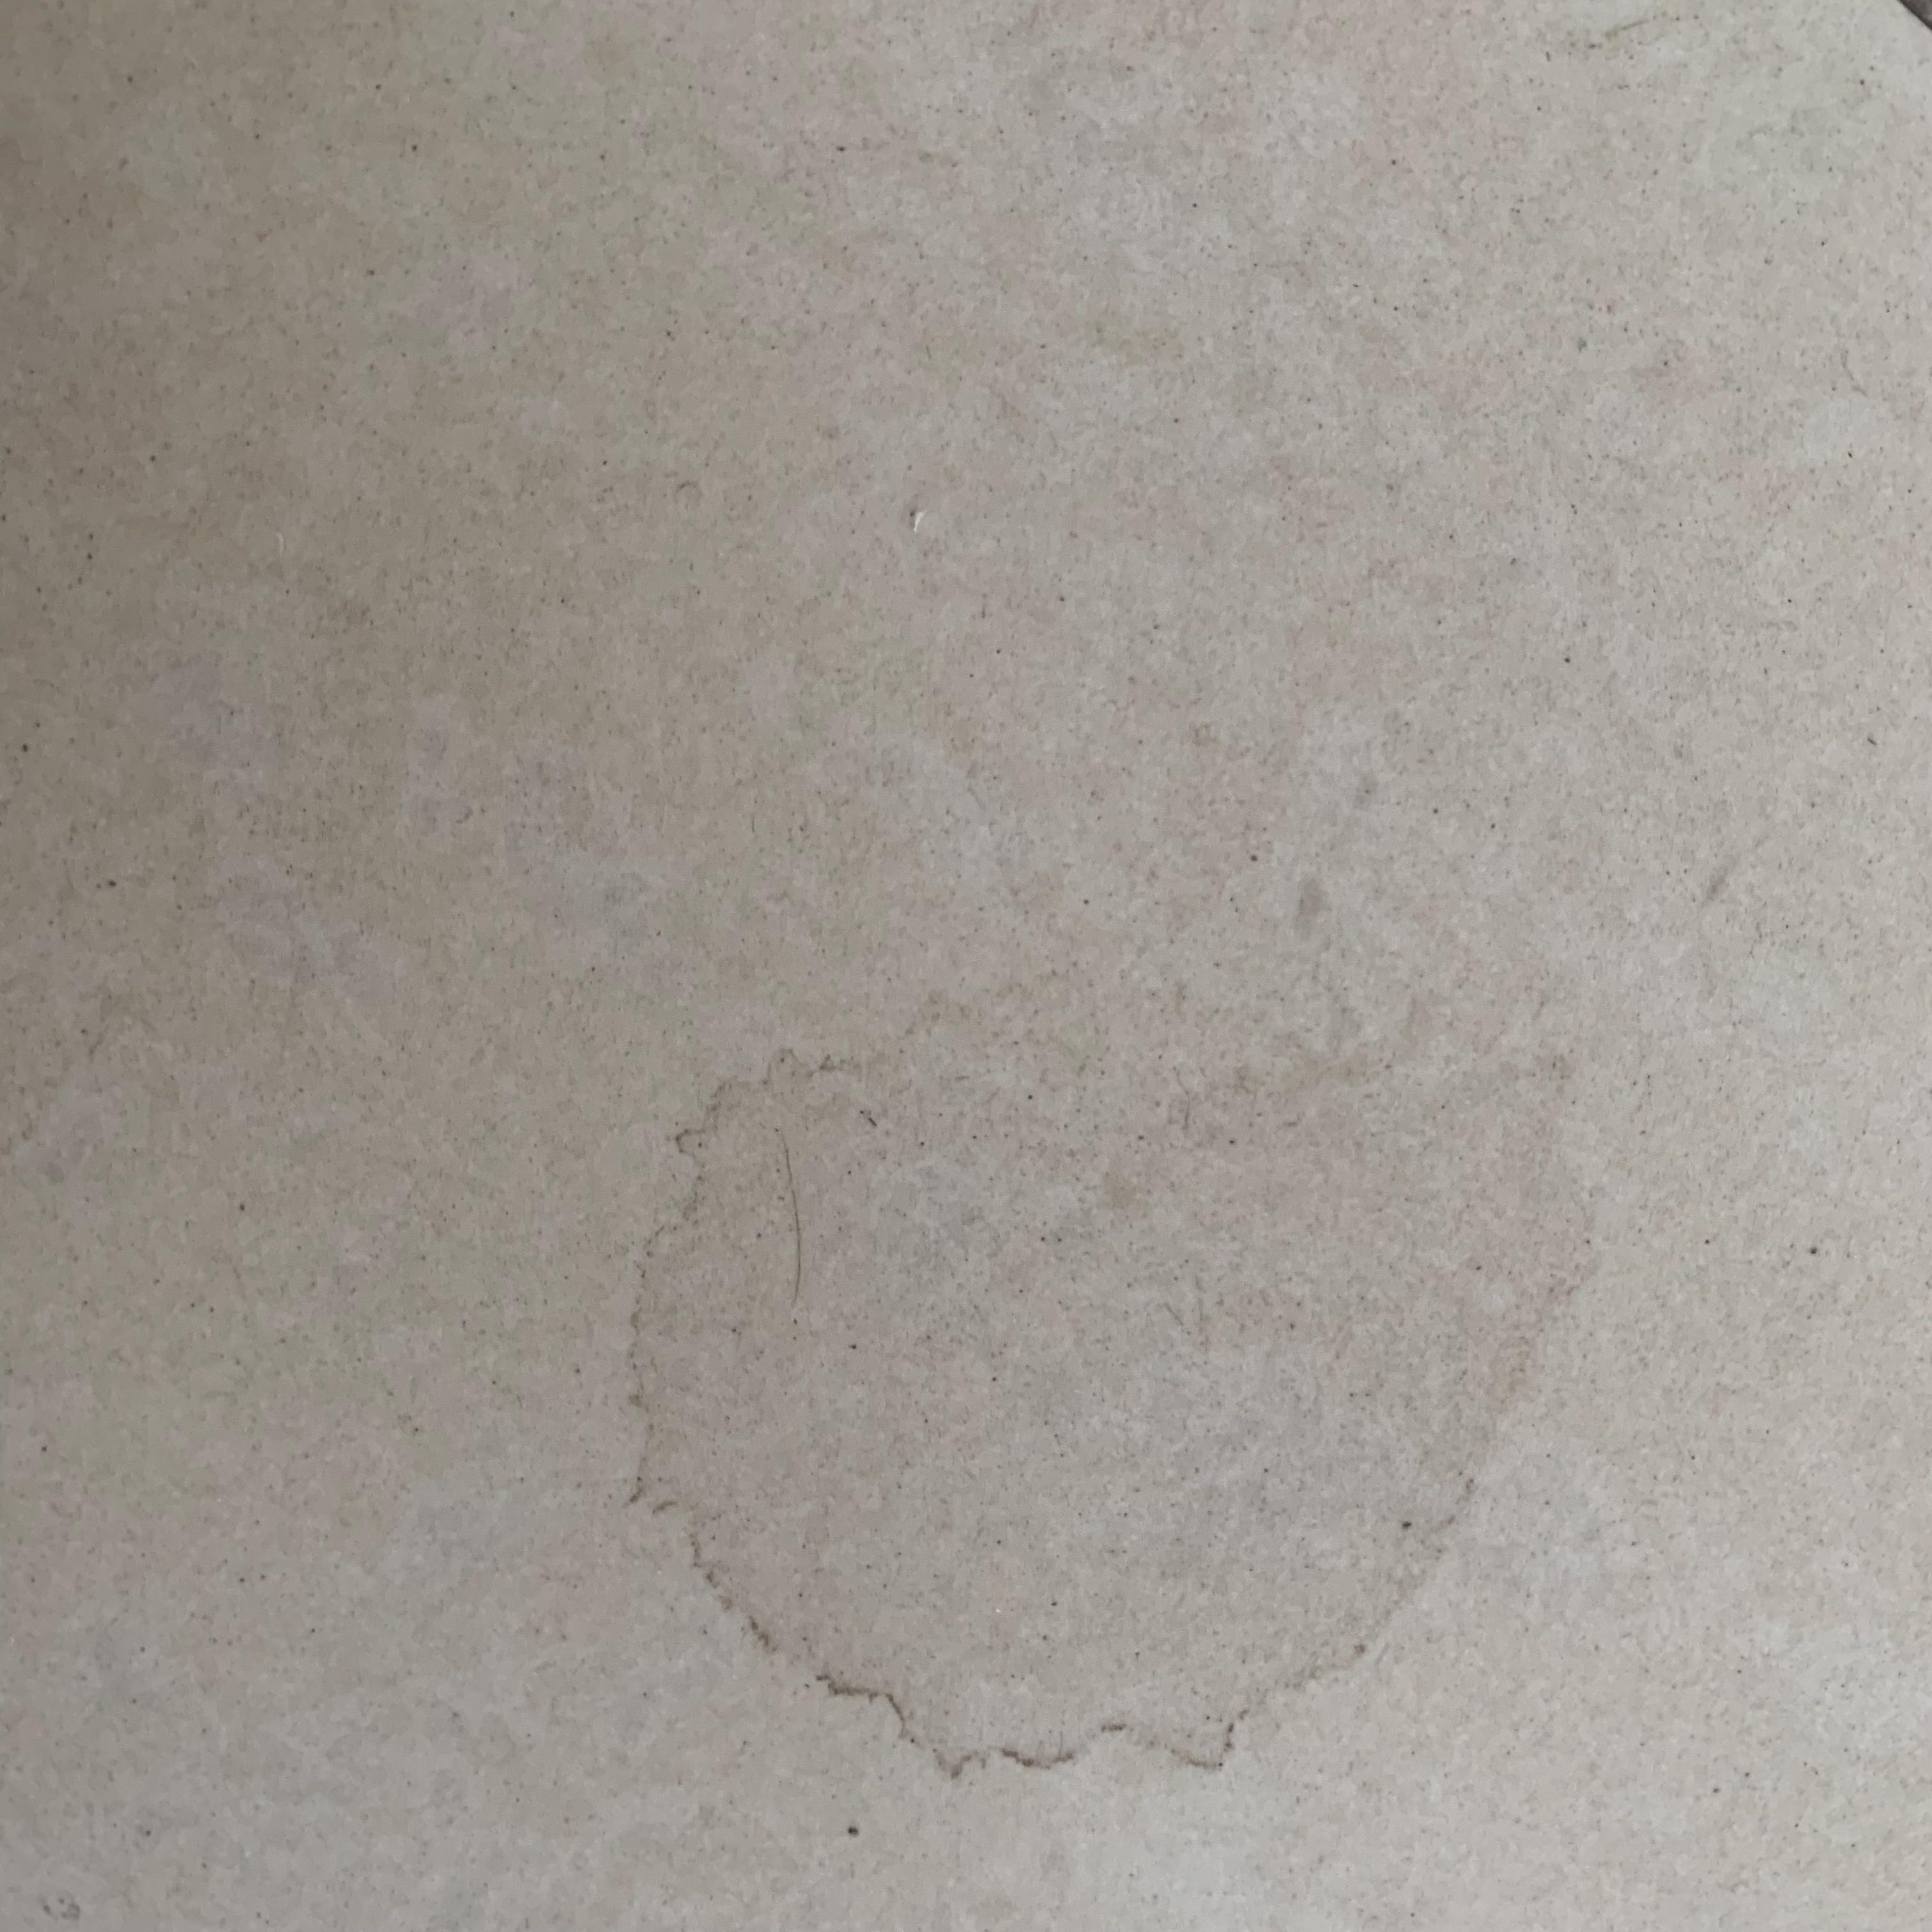grey spot: (621, 977, 1601, 1785)
